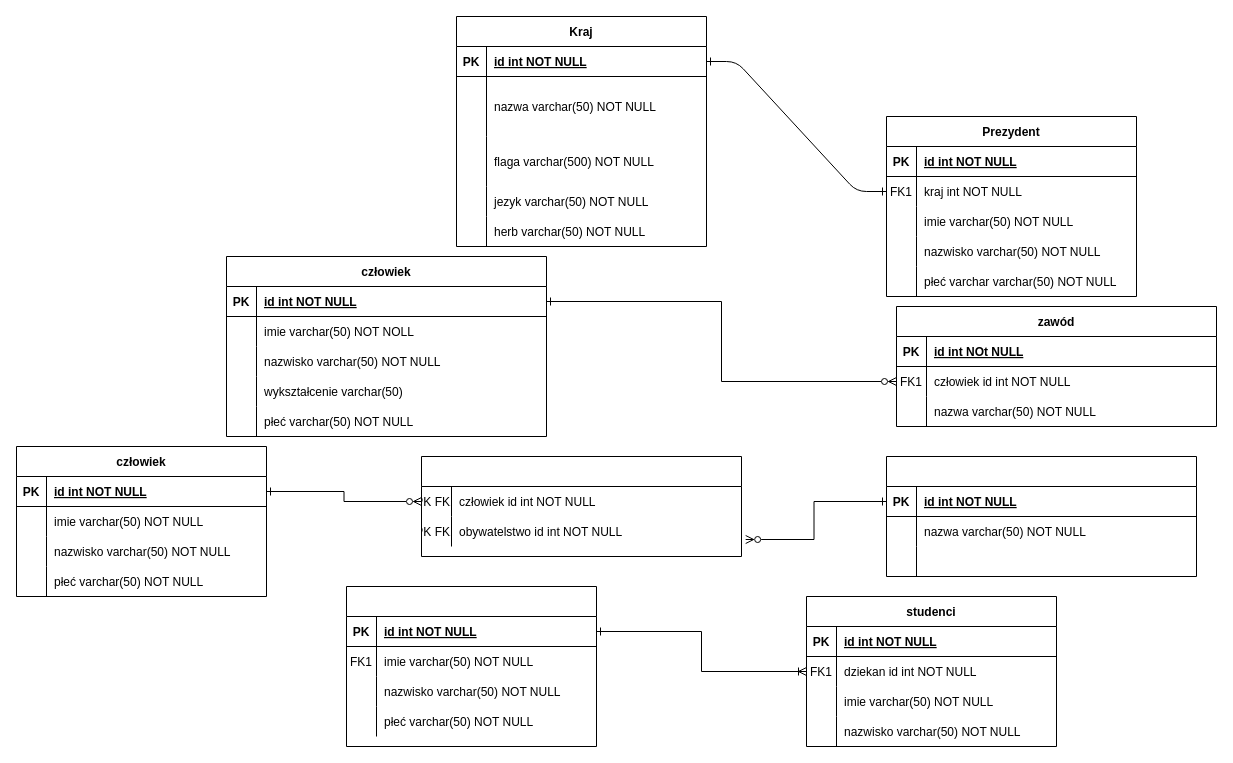
Image size: 1233x763. Some labels were removed from this diagram. Here are the shapes that lost their labels. From the top down, the box of each, then its label:
(420, 456, 742, 556): człowiek_obywatelstwo
(886, 456, 1196, 576): obywatelstwo
(346, 586, 596, 746): dziekan
